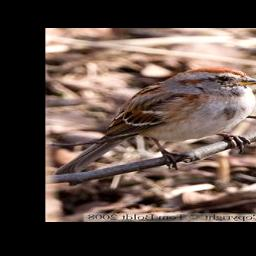Sparrow: (52, 64, 256, 187)
